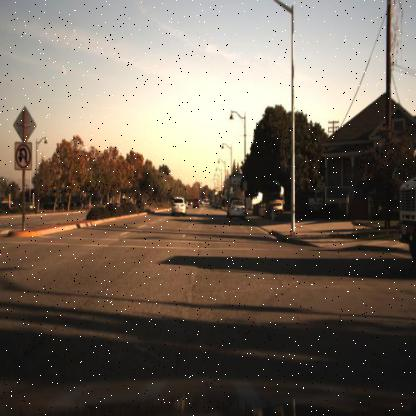car: (167, 189, 190, 220), (226, 197, 246, 224), (189, 194, 203, 213)
